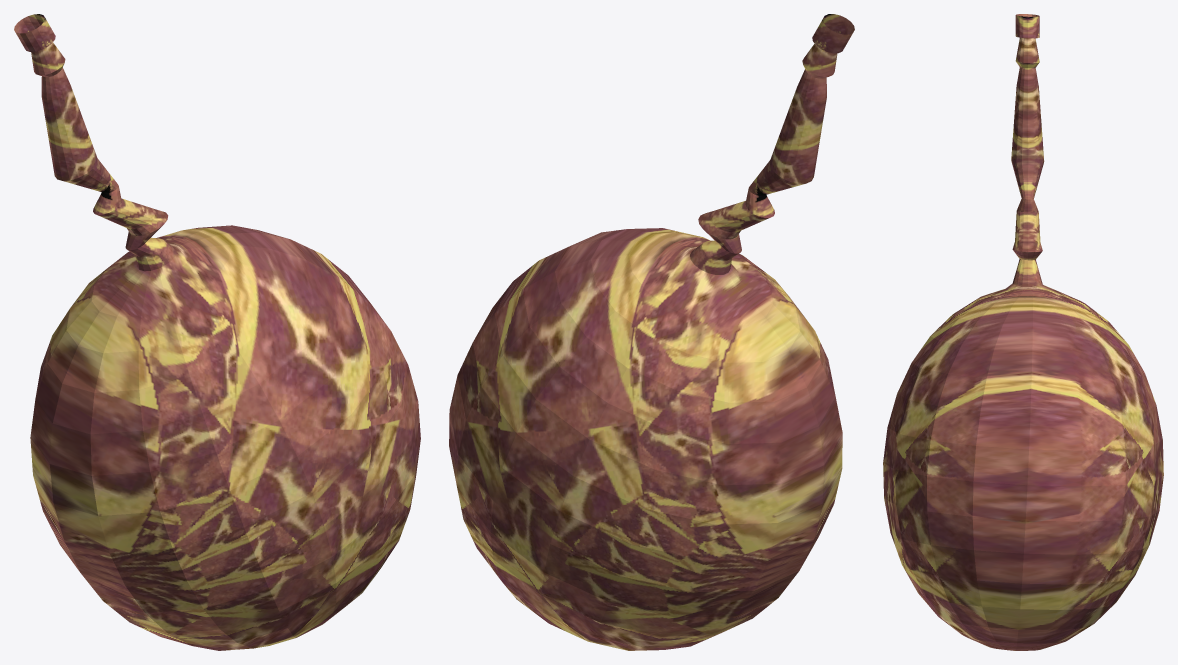
Rendered from fetus.dae.
3 views of the same model, side by side, from view 1: azimuth 30°, elevation 25°; view 2: azimuth 150°, elevation 25°; view 3: azimuth 270°, elevation 25° (orthographic). The views are drawn at different scales.
Visible parts, largest first — view 1: Sphere, Sphere_002; view 2: Sphere, Sphere_002; view 3: Sphere, Sphere_002.
Part boxes in pixels (bbox=[...]): Sphere: bbox=[30, 225, 420, 650]; Sphere_002: bbox=[14, 14, 176, 271]; Sphere: bbox=[449, 228, 842, 650]; Sphere_002: bbox=[690, 14, 854, 274]; Sphere: bbox=[883, 283, 1163, 650]; Sphere_002: bbox=[1011, 14, 1044, 285].
Bounding box in the file's own units: 26.57 × 20.58 × 43.96.
